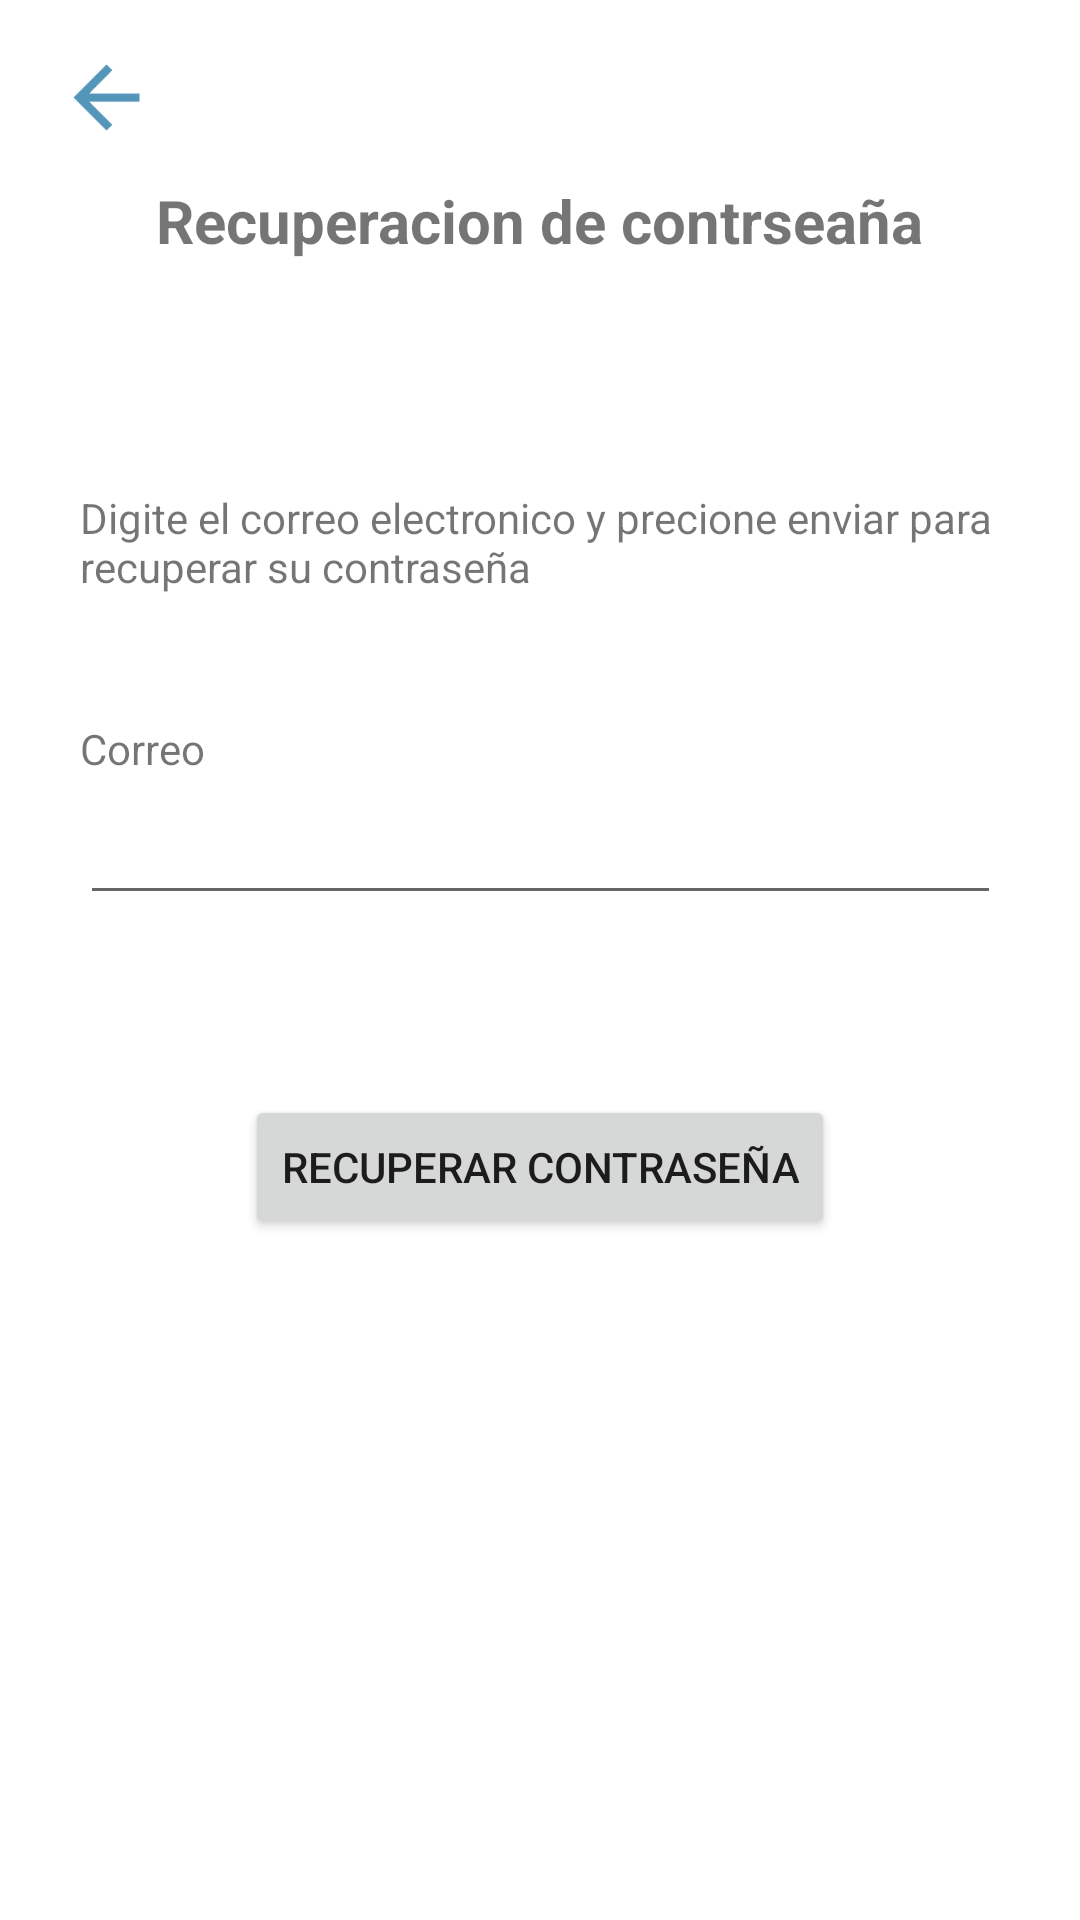

Named icons in this screenshot (1080w x 1920h) and their centers, point (x, y):
arrow: point (106, 97)
